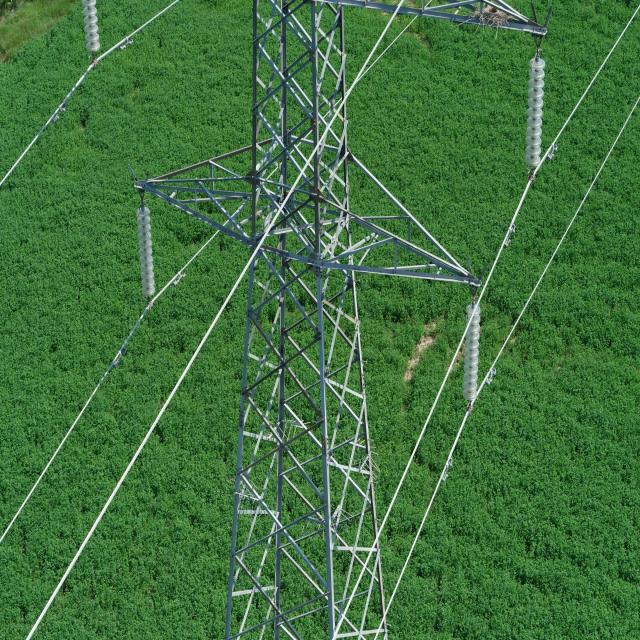direk: (223, 0, 389, 640)
